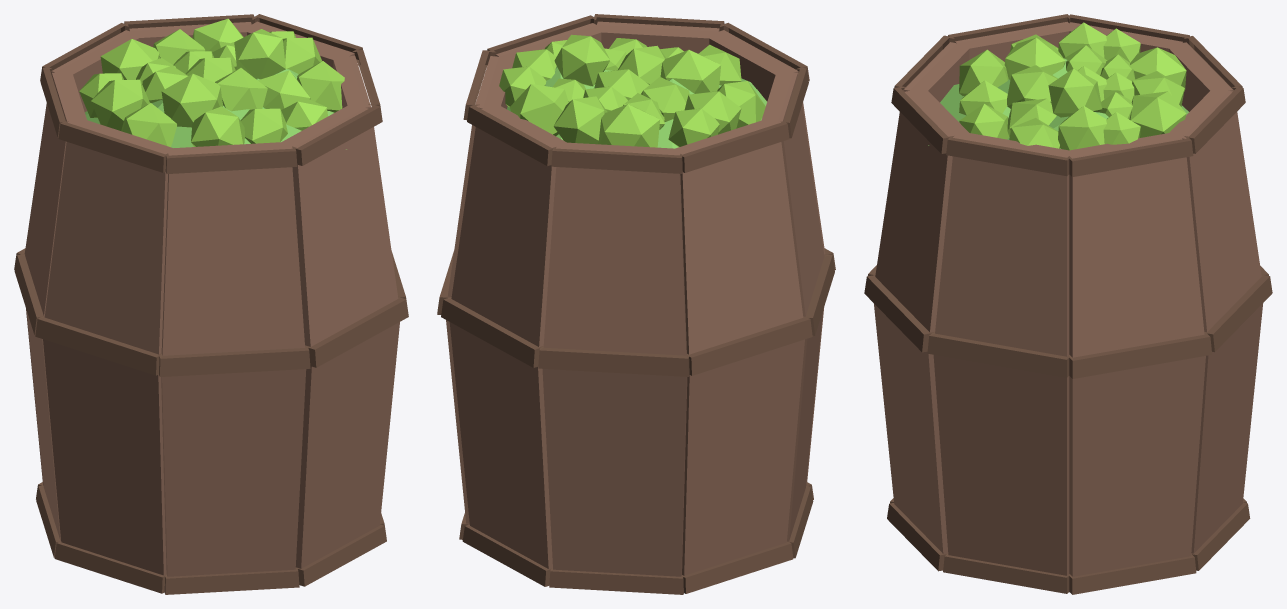
The model's file is barrel-fruit-01.obj.
3 views of the same model, side by side, from view 1: azimuth 30°, elevation 25°; view 2: azimuth 150°, elevation 25°; view 3: azimuth 270°, elevation 25° (orthographic).
Parts seen in each view (by area): view 1: barrel-fruit-01; view 2: barrel-fruit-01; view 3: barrel-fruit-01.
Boxes of the visible parts, box(x1,y1,x2,y2) form: barrel-fruit-01: box(14, 14, 408, 594); barrel-fruit-01: box(437, 14, 835, 594); barrel-fruit-01: box(864, 14, 1272, 594).
Bounding box in the file's own units: 0.4541 × 0.58 × 0.4553.
